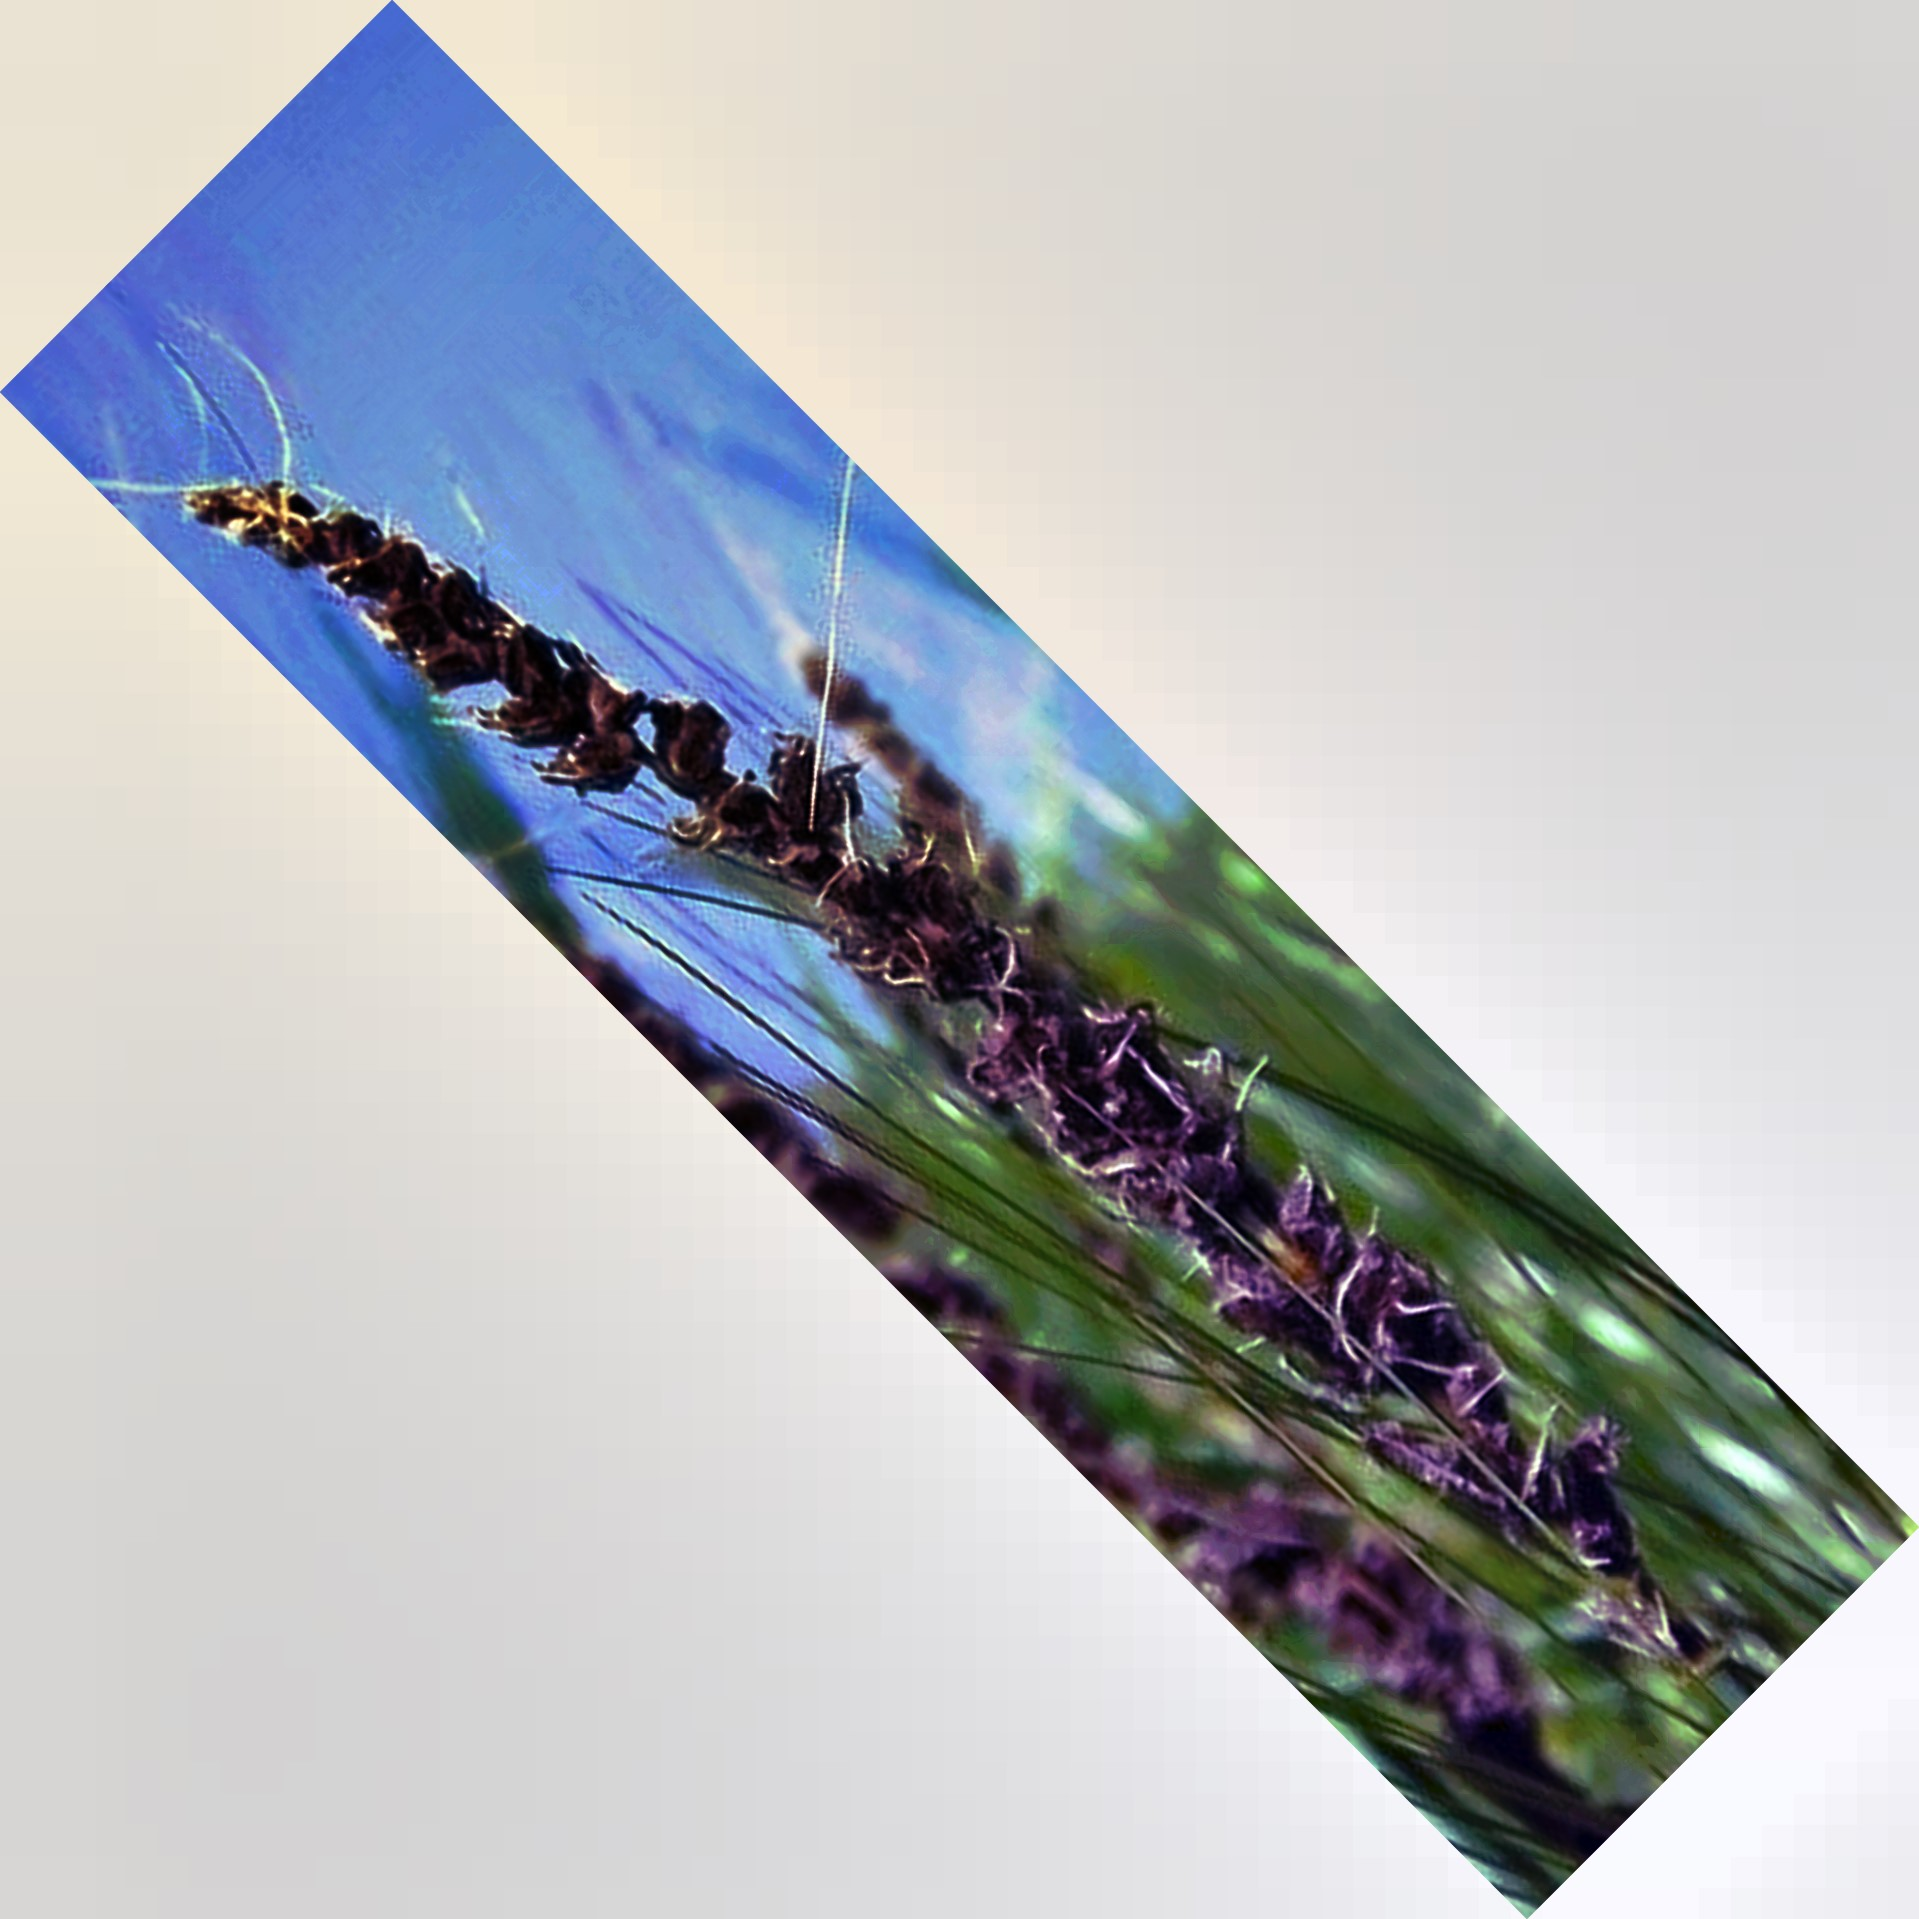Wheat Loose Smut: (228, 466, 1167, 1102)
